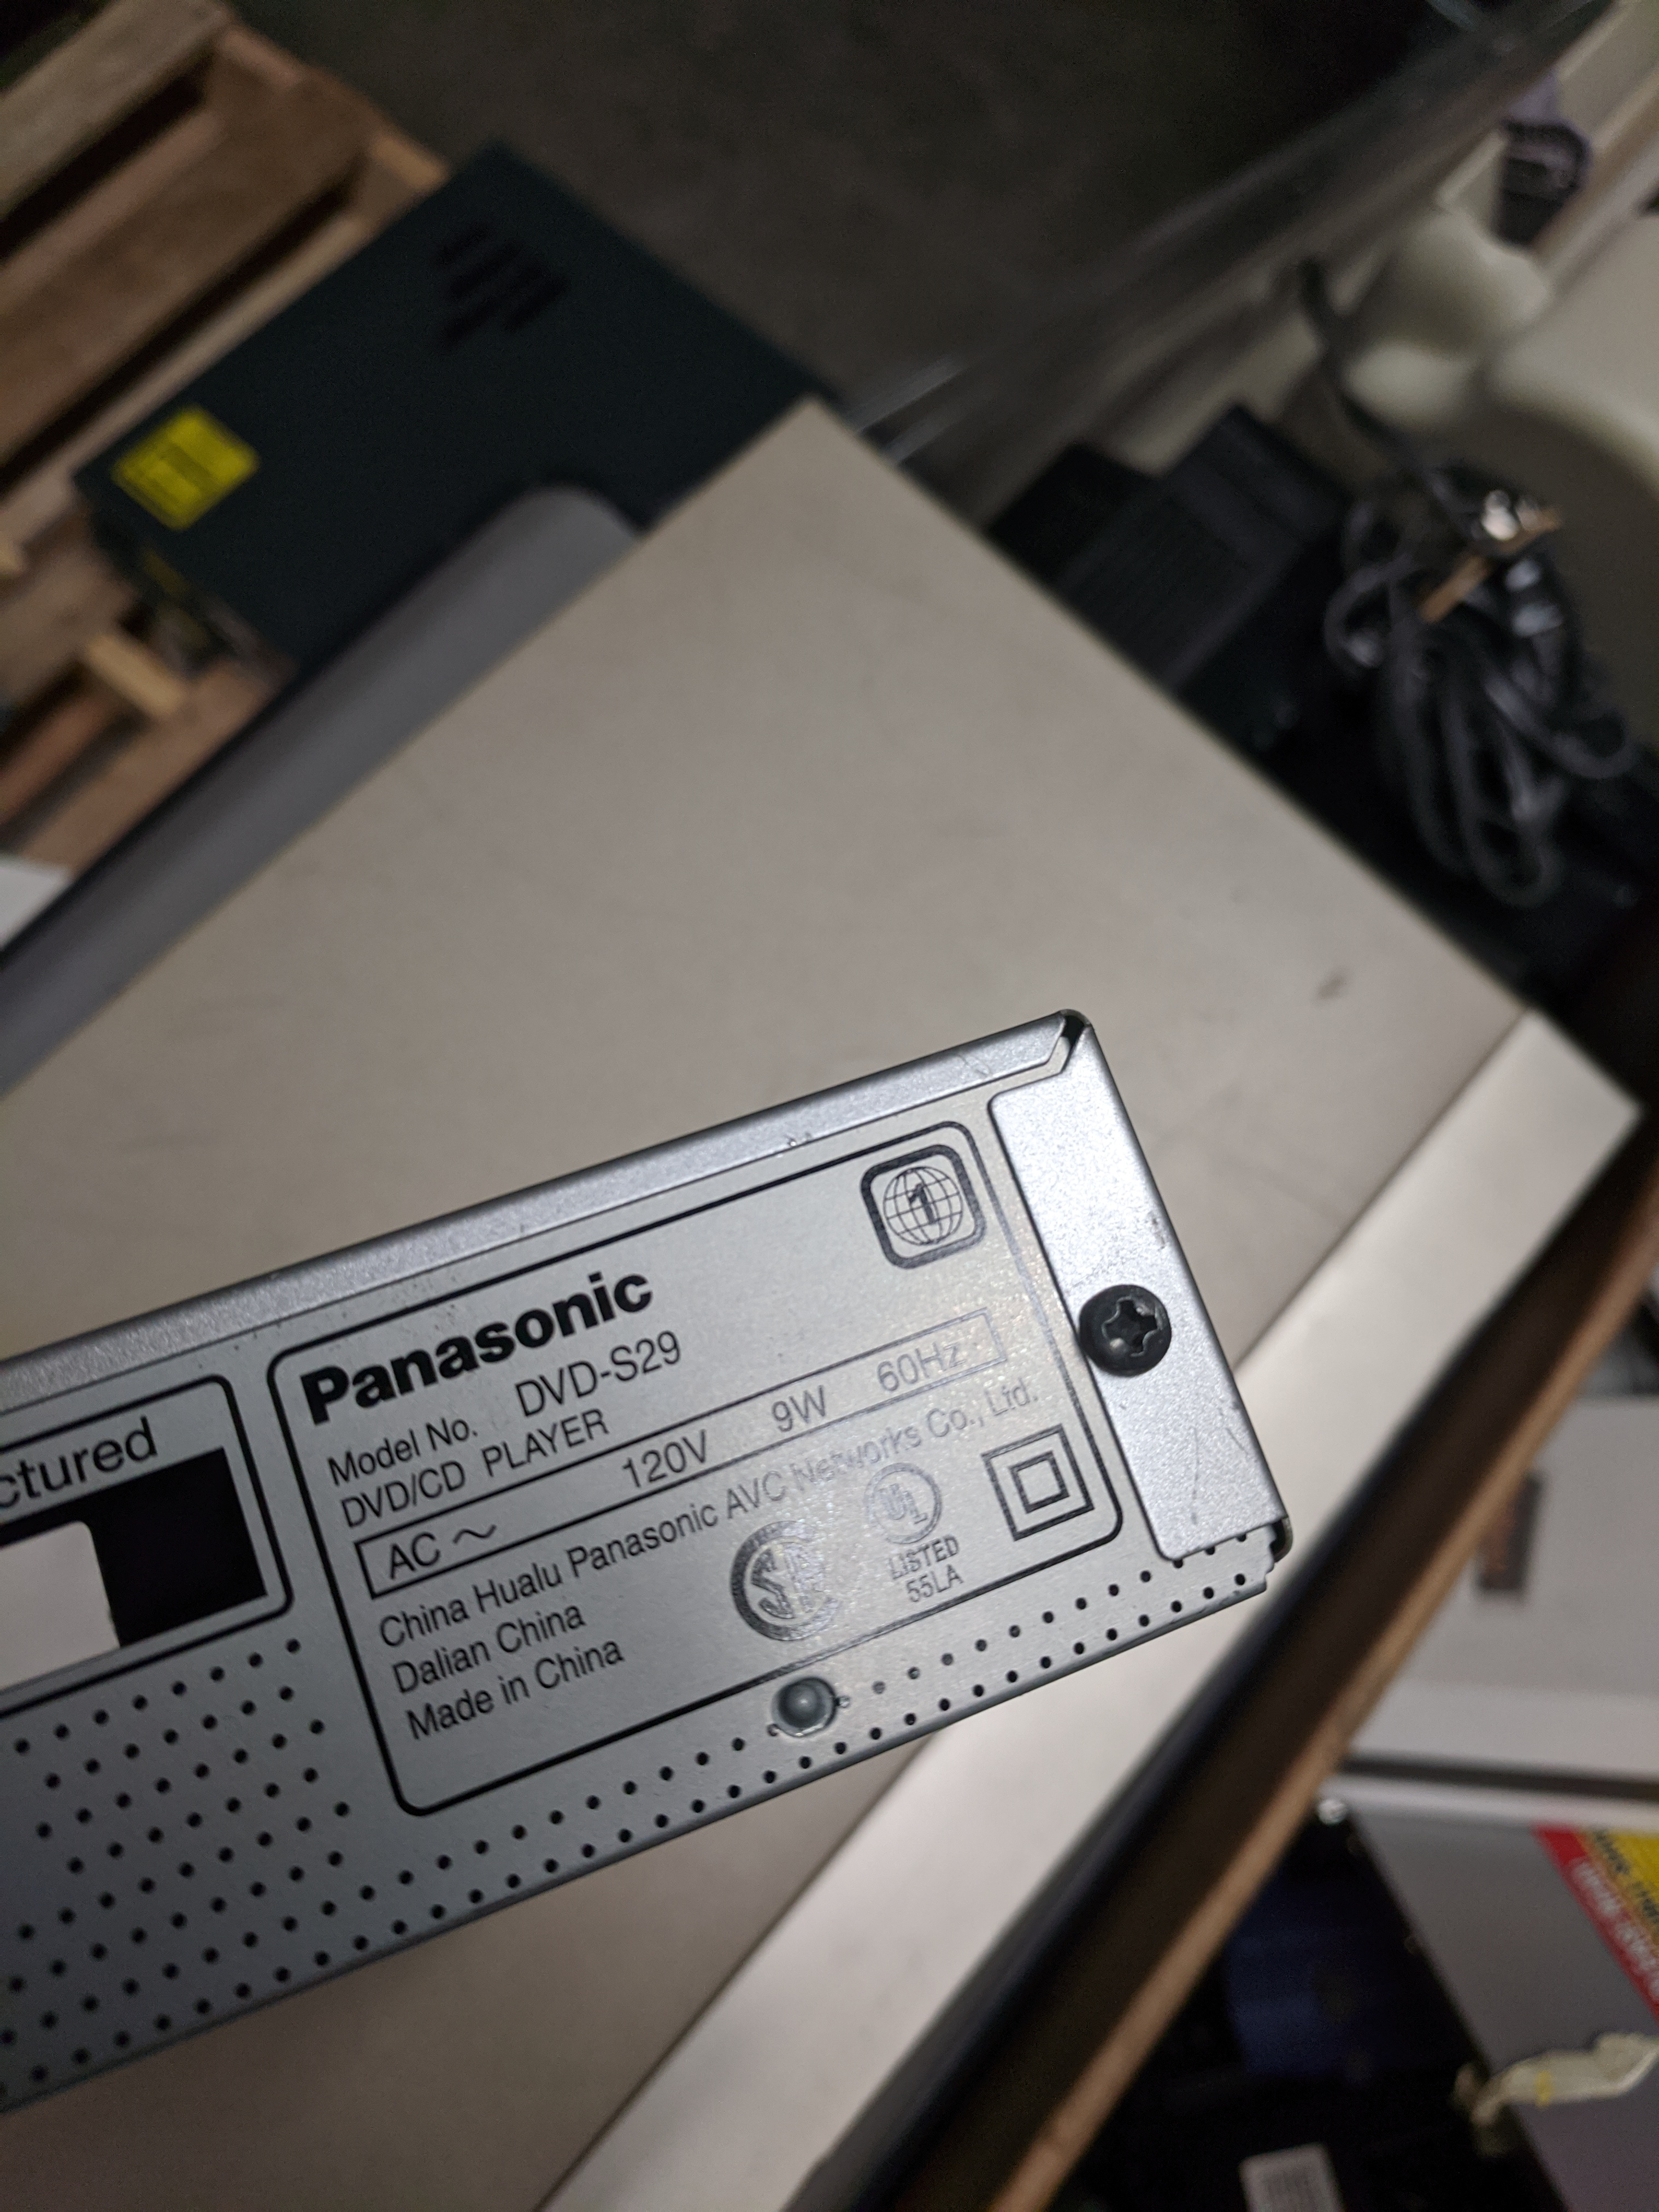cross_recessed_screw: (1070, 1280, 1173, 1367)
